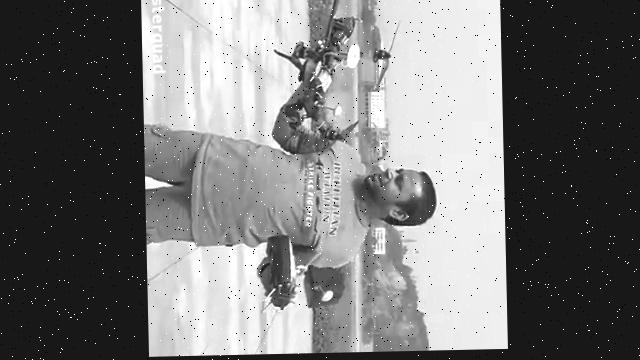drone: (270, 0, 404, 156)
